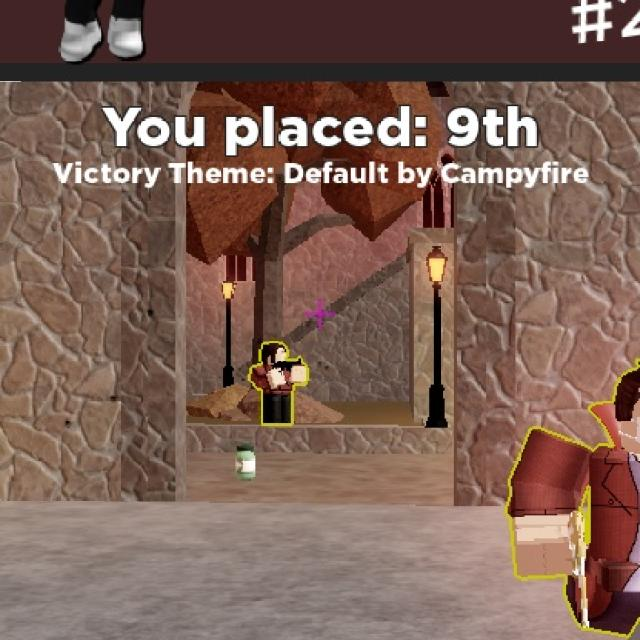player: (253, 343, 296, 428)
